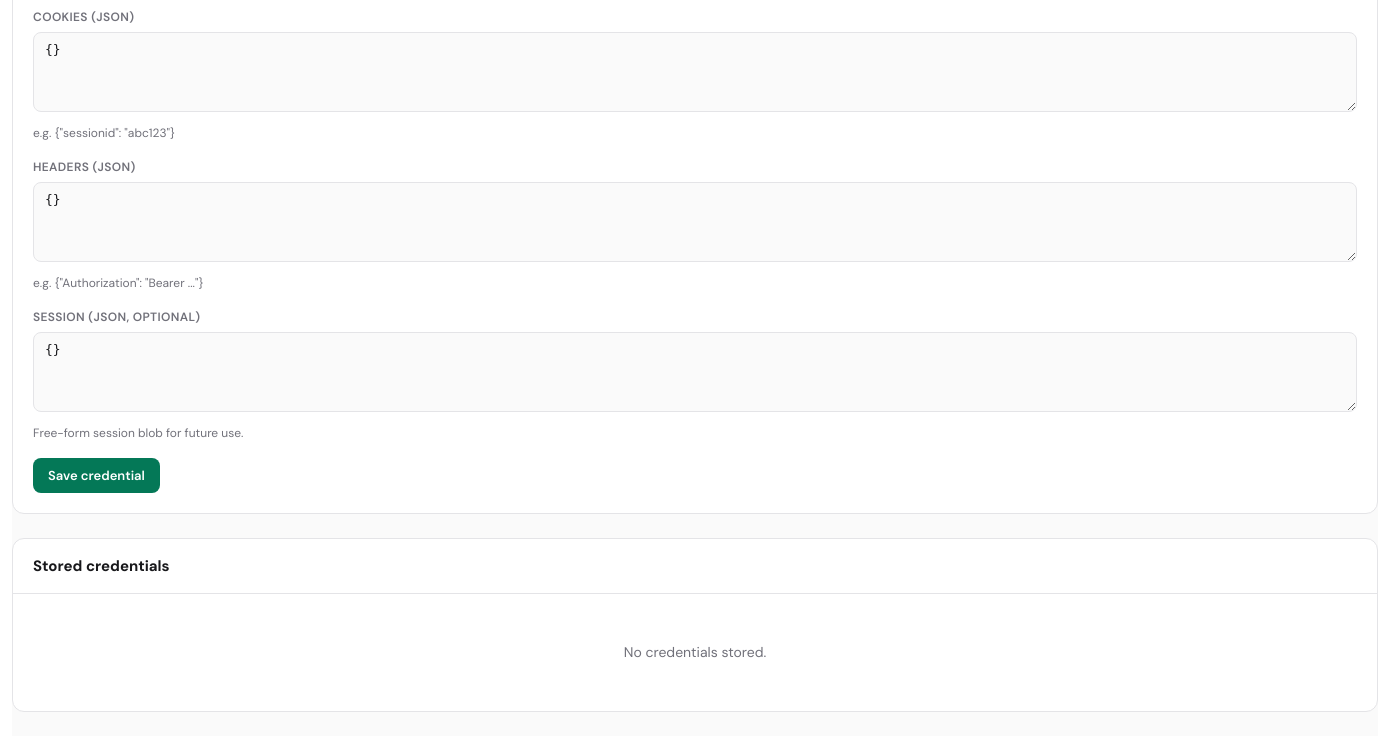
CredentialsPage › shows an error banner when creating a credential fails
The image size is (1378, 736).
(page scrolled)
Click the button "Save credential".
click(96, 475)  # box [33, 458, 160, 492]
(page scrolled)
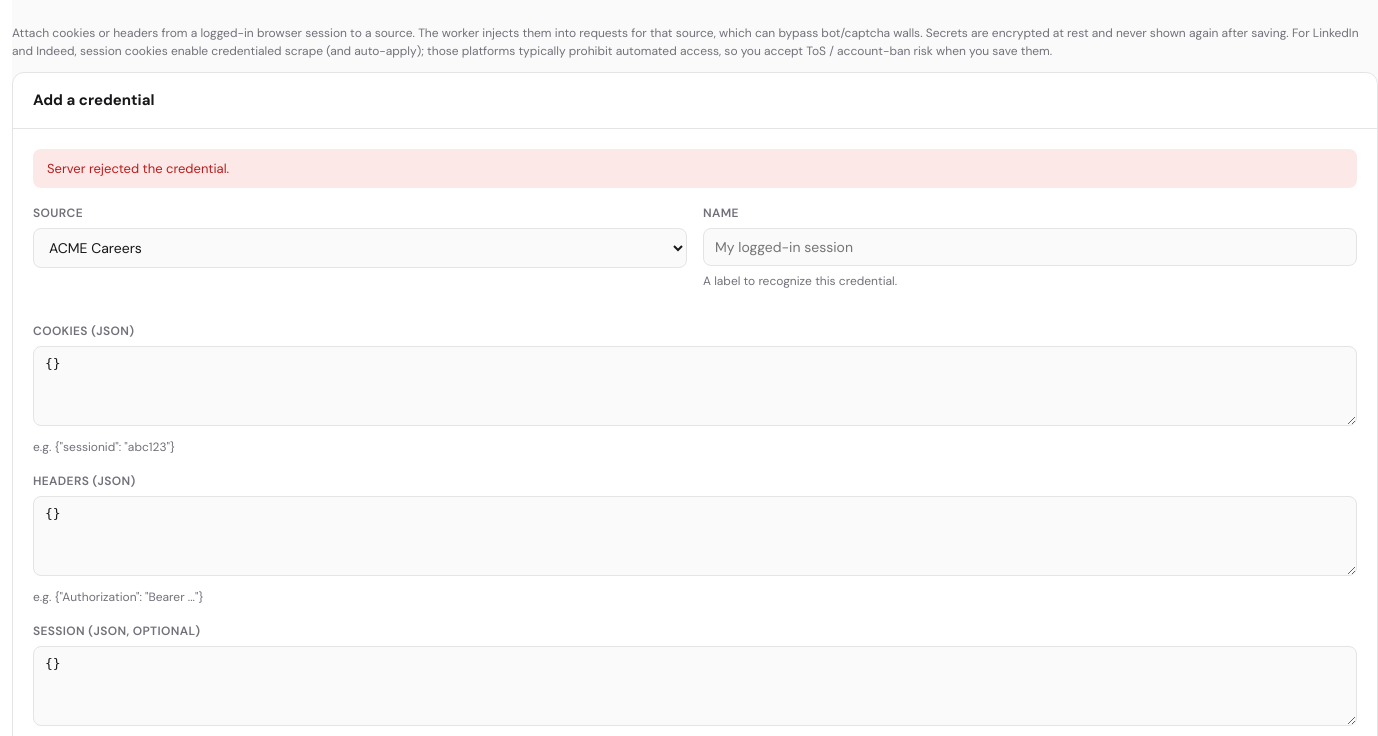
Expected: the text "Server rejected the credential." is shown, [33, 148, 1357, 188]
